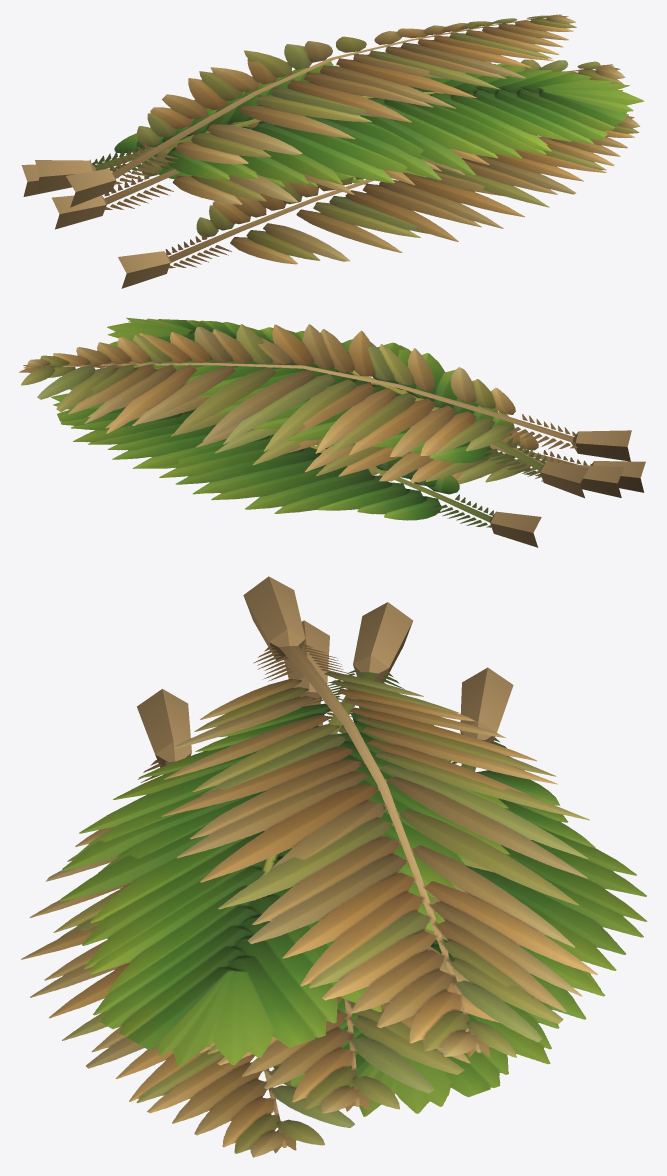
Rendered from pile_fronds.glb.
3 renders of one model, top to bottom at view 1: azimuth 30°, elevation 25°; view 2: azimuth 150°, elevation 25°; view 3: azimuth 270°, elevation 25°, orthographic. The views are drawn at different scales.
Visible parts, largest first — view 1: pile_fronds_mesh; view 2: pile_fronds_mesh; view 3: pile_fronds_mesh.
Boxes of the visible parts, bbox=[...] form: pile_fronds_mesh: bbox=[21, 14, 644, 288]; pile_fronds_mesh: bbox=[19, 317, 645, 547]; pile_fronds_mesh: bbox=[21, 576, 647, 1157].
Size of the model in its own units: 2.78 by 0.4892 by 1.64.
3 materials, 2 textured.
